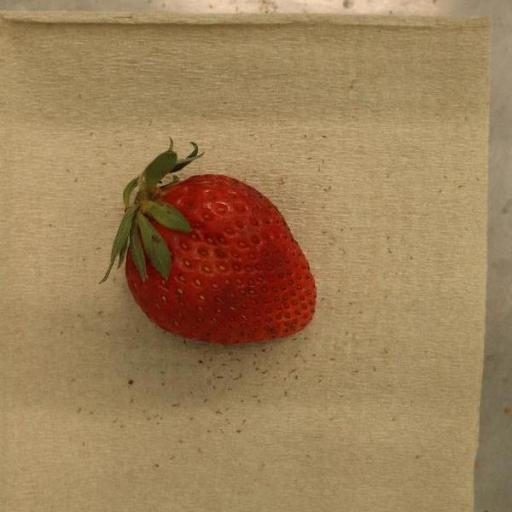Strawberry: (100, 139, 317, 345)
